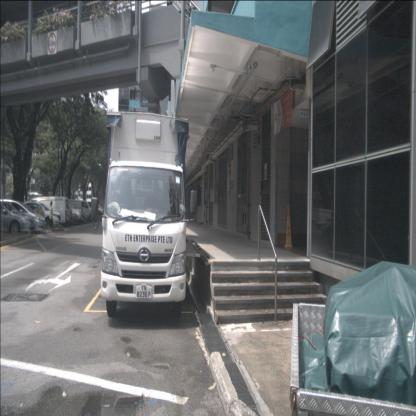human-pedestrian-adult: (48, 201, 53, 232)
movable_object-trafficcone: (284, 204, 293, 250)
vehicle-car: (0, 200, 46, 235), (26, 197, 70, 226), (18, 202, 61, 229), (0, 202, 35, 235), (48, 200, 84, 224), (64, 200, 94, 222)
vehicle-truck: (100, 112, 187, 317)
